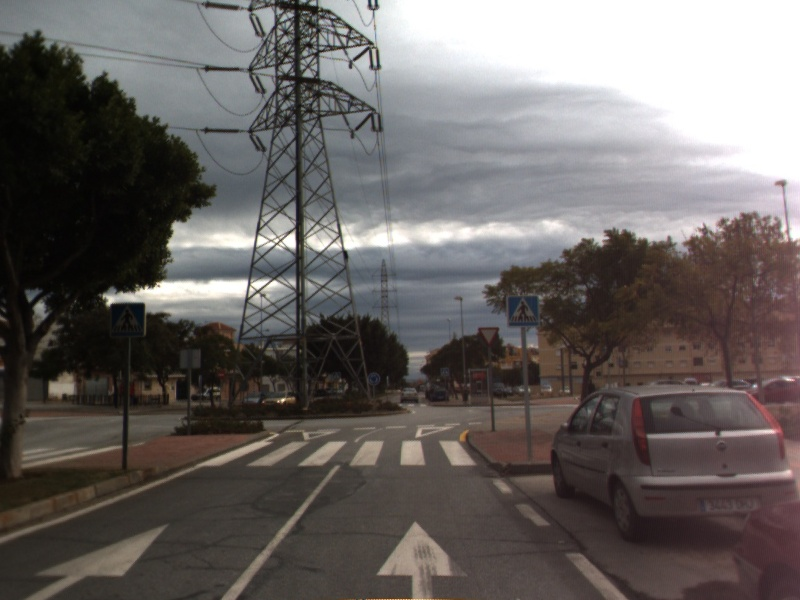STRAIGHT: (18, 519, 175, 600), (372, 517, 472, 600)
